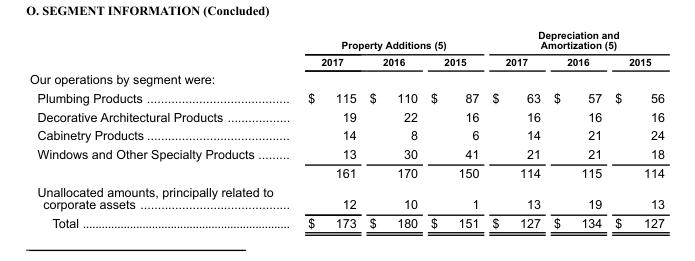table: (29, 29, 663, 229)
table column: (29, 29, 289, 229), (289, 29, 362, 229), (484, 29, 546, 229), (362, 29, 423, 229), (423, 29, 484, 229), (546, 29, 607, 229), (607, 29, 663, 229)
table column header: (29, 29, 663, 69)
table projected row header: (29, 69, 663, 88)
table row: (29, 182, 663, 213), (29, 29, 663, 53), (29, 69, 663, 88), (29, 106, 663, 125), (29, 125, 663, 144), (29, 144, 663, 163), (29, 163, 663, 182), (29, 88, 663, 106), (29, 53, 663, 69), (29, 213, 663, 229)
table spanning cell: (289, 29, 484, 53), (484, 29, 663, 53)
